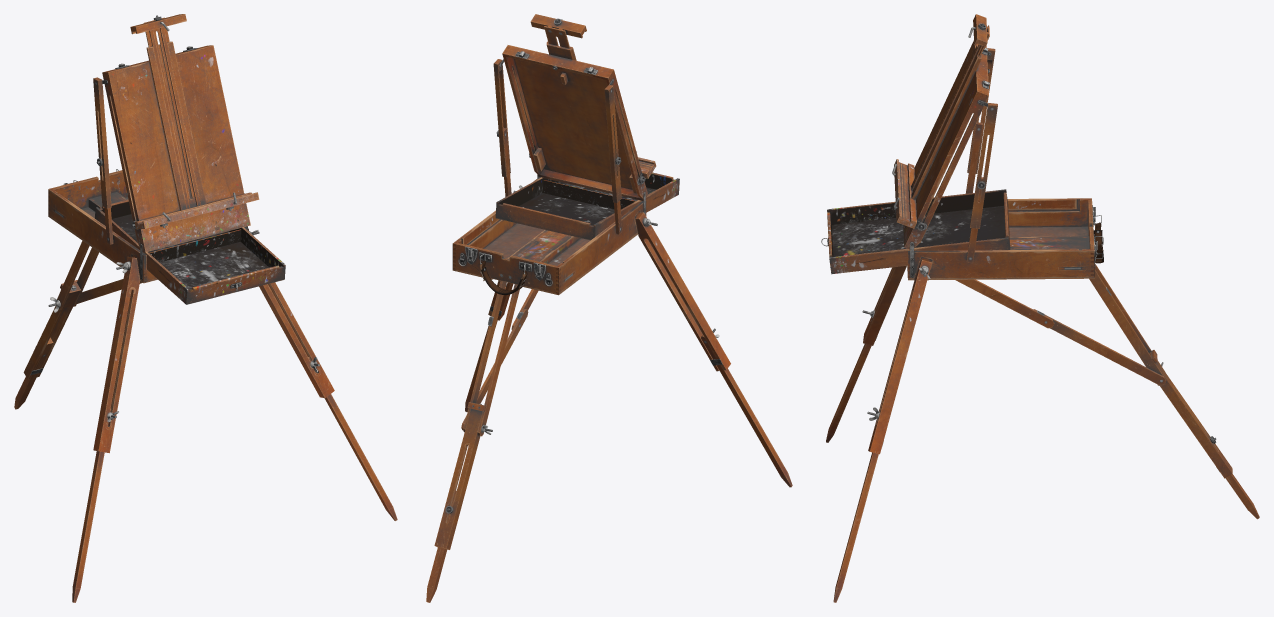
The model's file is Easel_SM.fbx.
The picture shows the model from 3 angles, left to right: view 1: azimuth 30°, elevation 25°; view 2: azimuth 150°, elevation 25°; view 3: azimuth 270°, elevation 25°; orthographic projection. The views are drawn at different scales.
Parts seen in each view (by area): view 1: Easel_SM; view 2: Easel_SM; view 3: Easel_SM.
Part boxes in pixels (box(x1,y1,x2,y2)): Easel_SM: box(14, 14, 397, 602); Easel_SM: box(426, 14, 792, 602); Easel_SM: box(821, 14, 1259, 602).
Bounding box in the file's own units: 101 × 145 × 115.
